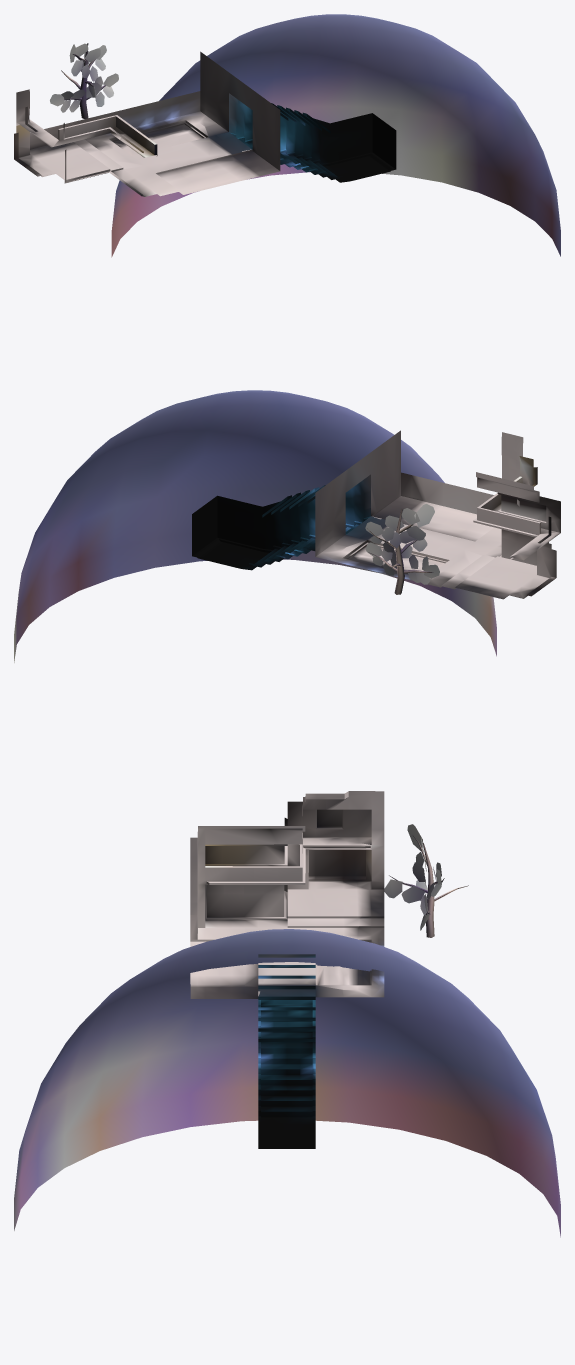
File: arcvis_baked_282.glb
3 renders of one model, top to bottom at view 1: azimuth 30°, elevation 25°; view 2: azimuth 150°, elevation 25°; view 3: azimuth 270°, elevation 25°, orthographic. The views are drawn at different scales.
Parts seen in each view (by area): view 1: _Sky, Model1, Model0; view 2: _Sky, Model1, Model0; view 3: _Sky, Model1, Model0.
Boxes of the visible parts, left/top/right/bottom form: _Sky: left=111, top=14, right=560, bottom=257; Model1: left=14, top=43, right=396, bottom=196; Model0: left=30, top=51, right=280, bottom=196; _Sky: left=14, top=390, right=496, bottom=662; Model1: left=192, top=456, right=560, bottom=599; Model0: left=315, top=430, right=523, bottom=587; _Sky: left=14, top=929, right=560, bottom=1237; Model1: left=190, top=791, right=468, bottom=1148; Model0: left=197, top=791, right=384, bottom=997.
Bounding box in the file's own units: 24.86 × 11.55 × 20.01.
